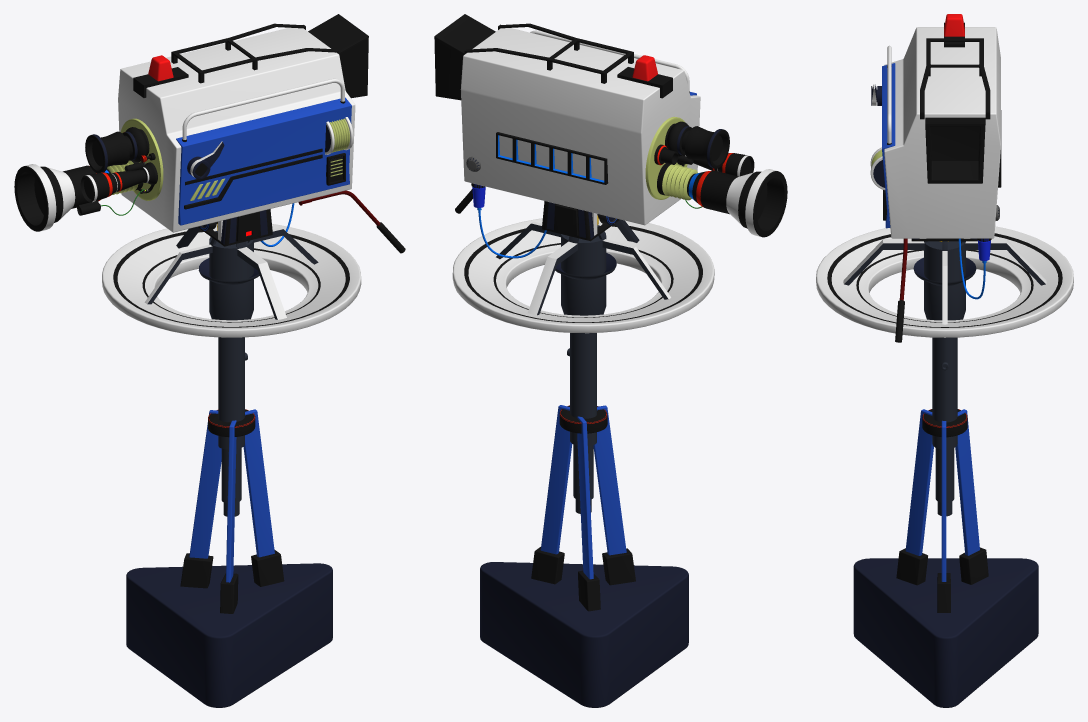
The model's file is Camara.fbx.
3 renders of one model, left to right at view 1: azimuth 30°, elevation 25°; view 2: azimuth 150°, elevation 25°; view 3: azimuth 270°, elevation 25°, orthographic.
Visible parts, largest first — view 1: Tripode, Base, Box001, Line005, Line007; view 2: Tripode, Box001, Base; view 3: Tripode, Box001, Base, Line007, Line005.
Part boxes in pixels (x1,y1,x2,y2): Tripode: (102, 224, 361, 707); Base: (14, 14, 368, 246); Box001: (118, 27, 355, 232); Line005: (182, 78, 345, 141); Line007: (298, 190, 405, 253); Tripode: (452, 218, 714, 707); Box001: (460, 28, 700, 225); Base: (434, 14, 787, 258); Tripode: (816, 226, 1073, 707); Box001: (884, 27, 1000, 238); Base: (870, 14, 1001, 299); Line007: (895, 238, 907, 342); Line005: (887, 45, 891, 144).
Bounding box in the file's own units: 1.91 × 3.28 × 1.25.
